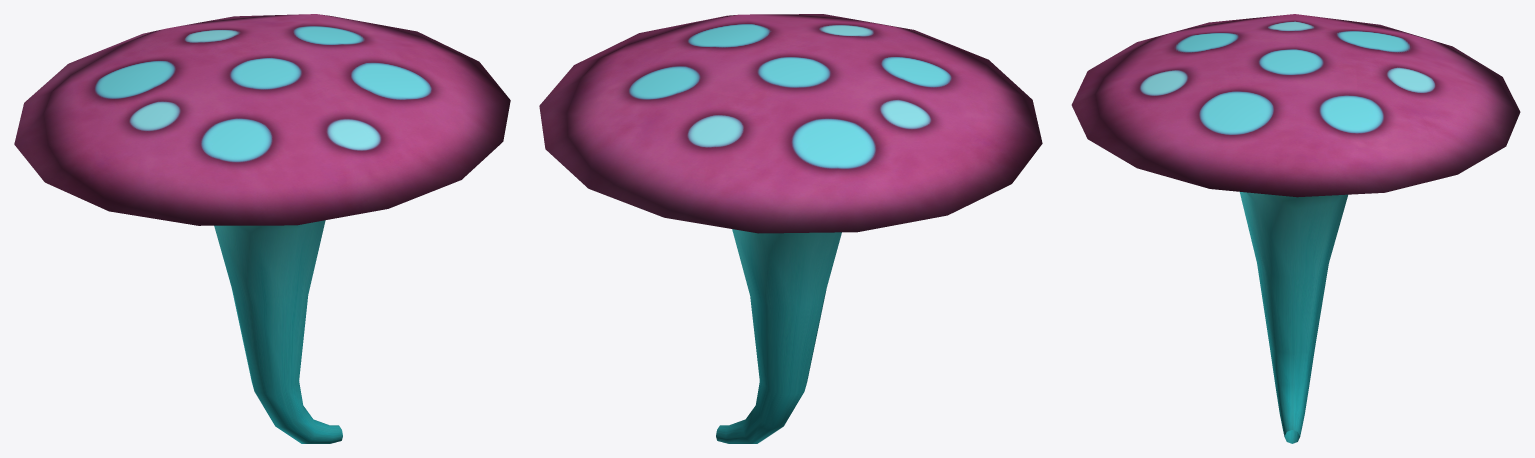
File: Mushroom_Curved1_Pink.fbx
3 views of the same model, side by side, from view 1: azimuth 30°, elevation 25°; view 2: azimuth 150°, elevation 25°; view 3: azimuth 270°, elevation 25° (orthographic). The views are drawn at different scales.
Visible parts, largest first — view 1: Mesh; view 2: Mesh; view 3: Mesh.
Boxes of the visible parts, <box> form: Mesh: <box>14,14,510,443</box>; Mesh: <box>539,14,1042,443</box>; Mesh: <box>1071,14,1520,443</box>.
Bounding box in the file's own units: 91.5 × 78.04 × 90.09.
